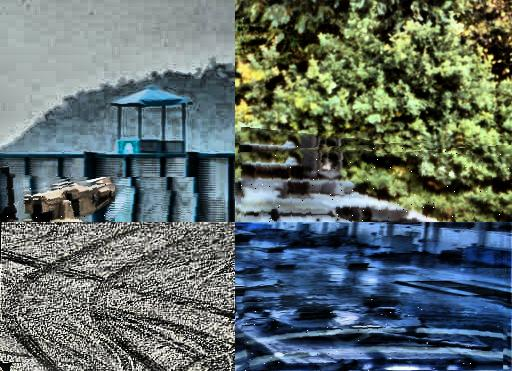tanks: (243, 300, 504, 371), (239, 147, 430, 223), (23, 184, 116, 223), (236, 269, 320, 312), (236, 228, 256, 243)
